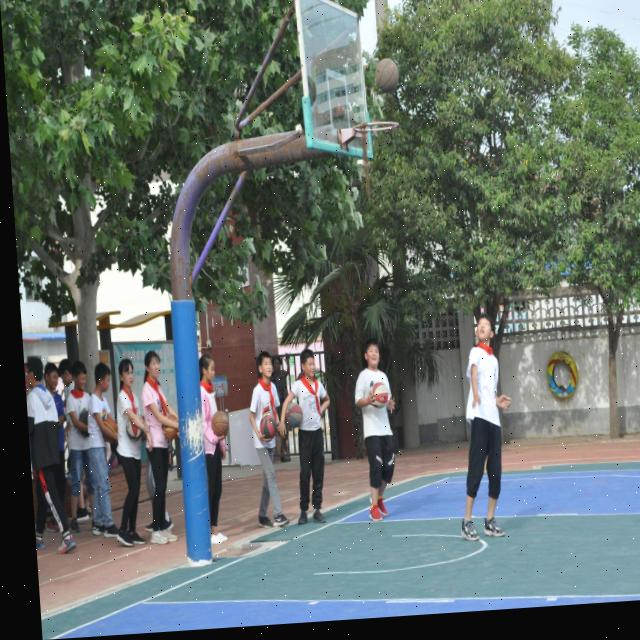basketball: (375, 57, 400, 94), (369, 380, 390, 410), (259, 412, 279, 443), (211, 408, 231, 439), (161, 412, 180, 443), (284, 401, 305, 429), (99, 415, 119, 444), (126, 413, 144, 443), (79, 408, 91, 436)
hoop: (353, 119, 400, 140)
